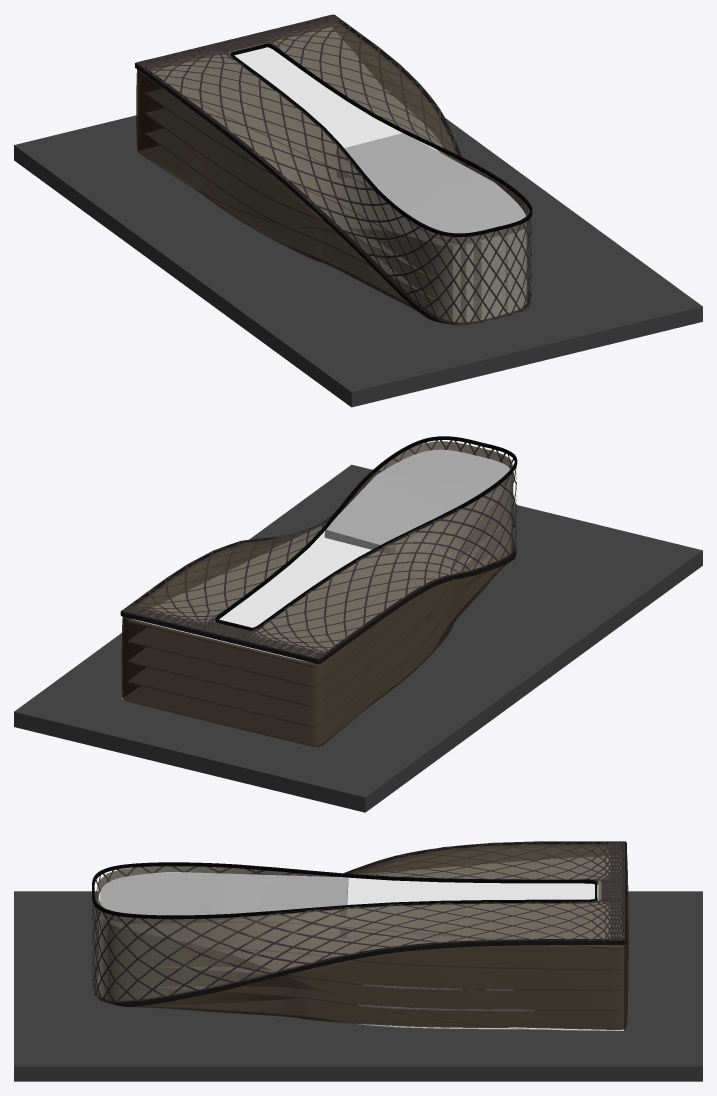
Rendered from commercial.gltf.
3 renders of one model, top to bottom at view 1: azimuth 30°, elevation 25°; view 2: azimuth 150°, elevation 25°; view 3: azimuth 270°, elevation 25°, orthographic. The views are drawn at different scales.
Parts seen in each view (by area): view 1: Box001, Plane004, Plane013, Plane005, Plane011, Shape004_05 - Default_0, Plane003, Plane010, Shape002, Shape, Plane009; view 2: Box001, Plane013, Plane004, Plane011, Plane005, Shape004_05 - Default_0, Shape002, Shape, Plane010, Plane003; view 3: Box001, Plane004, Plane013, Plane005, Plane011, Shape004_05 - Default_0, Plane003, Plane010, Shape002, Shape, Plane009, Plane008.
Boxes of the visible parts, x1,y1,x2,y2 form: Box001: (14,115,702,407); Plane004: (147,19,529,322); Plane013: (136,22,530,324); Plane005: (136,14,531,325); Plane011: (152,28,511,243); Shape004_05 - Default_0: (337,133,525,241); Plane003: (348,223,526,321); Plane010: (188,90,516,262); Shape002: (135,14,530,323); Shape: (230,43,532,237); Plane009: (297,187,500,282); Box001: (14,464,702,812); Plane013: (121,544,515,747); Plane004: (130,441,513,656); Plane011: (132,514,452,663); Plane005: (121,440,516,659); Shape004_05 - Default_0: (324,449,510,553); Shape002: (120,537,516,664); Shape: (215,436,517,630); Plane010: (344,486,503,638); Plane003: (122,476,510,699); Box001: (14,891,702,1081); Plane004: (98,844,620,1001); Plane013: (94,847,628,1029); Plane005: (92,841,624,1003); Plane011: (98,856,620,939); Shape004_05 - Default_0: (100,872,348,937); Plane003: (99,910,623,1030); Plane010: (98,912,476,957); Shape002: (104,841,626,1006); Shape: (92,862,597,919); Plane009: (132,949,513,990); Plane008: (133,986,534,1010).
Bounding box in the file's own units: 61.13 × 17.71 × 102.
